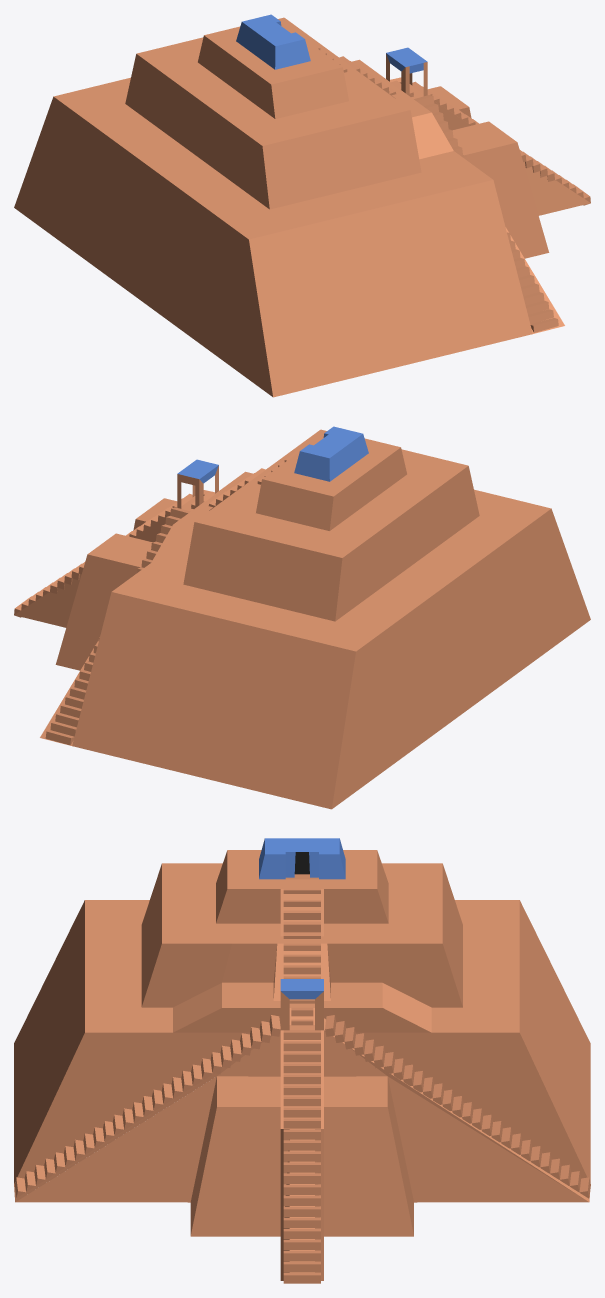
Rendered from zigurate4.fbx.
3 views of the same model, one above another, from view 1: azimuth 30°, elevation 25°; view 2: azimuth 150°, elevation 25°; view 3: azimuth 270°, elevation 25° (orthographic). The views are drawn at different scales.
Parts seen in each view (by area): view 1: Cube.005; view 2: Cube.005; view 3: Cube.005.
Boxes of the visible parts, <box> form: Cube.005: <box>14,14,590,397</box>; Cube.005: <box>14,426,590,809</box>; Cube.005: <box>14,838,590,1283</box>.
Bounding box in the file's own units: 2830 × 1496 × 2897.
